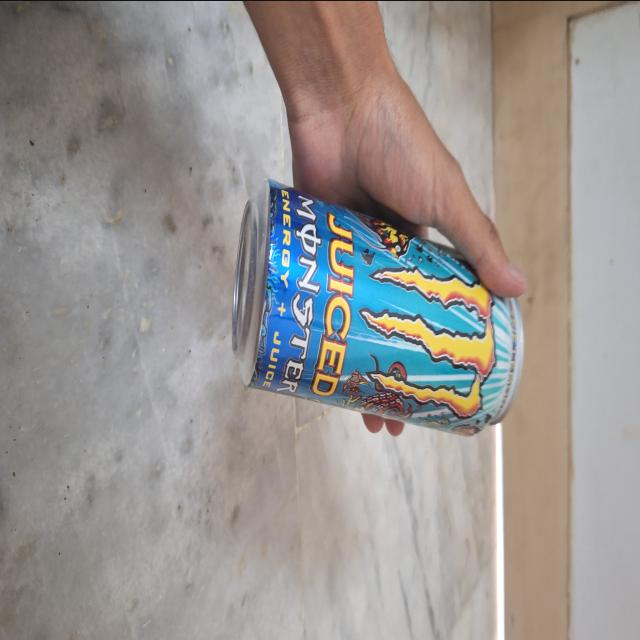Monster Aussie Lemonade: (232, 220, 522, 424)
